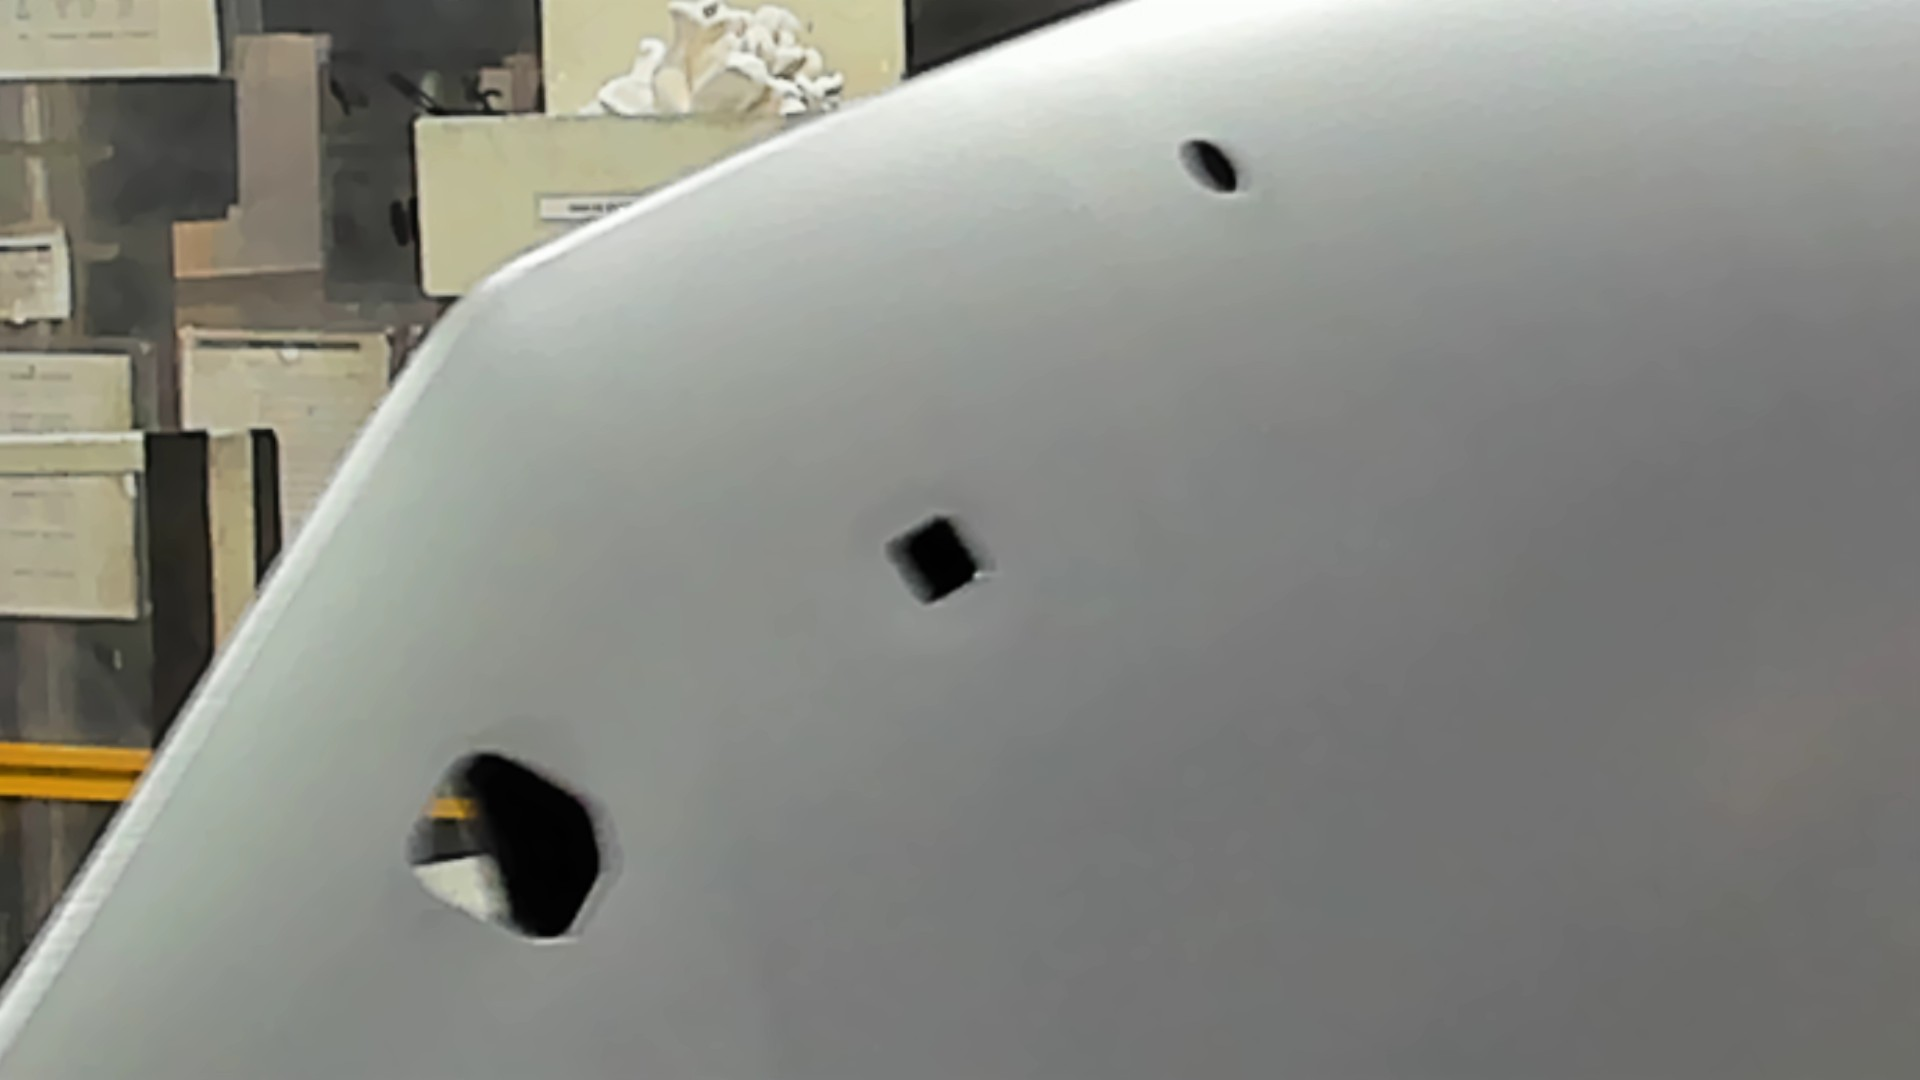chico: (1170, 135, 1247, 200)
grande: (396, 749, 613, 949)
mediano: (880, 512, 989, 615)
